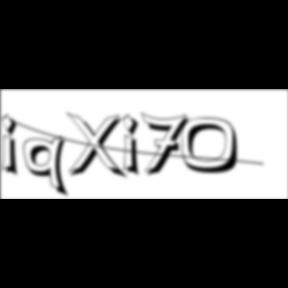7: (140, 111, 196, 179)
O: (180, 117, 246, 176)
X: (66, 112, 130, 182)
i: (1, 112, 25, 180), (123, 112, 147, 180)
q: (23, 135, 72, 200)
